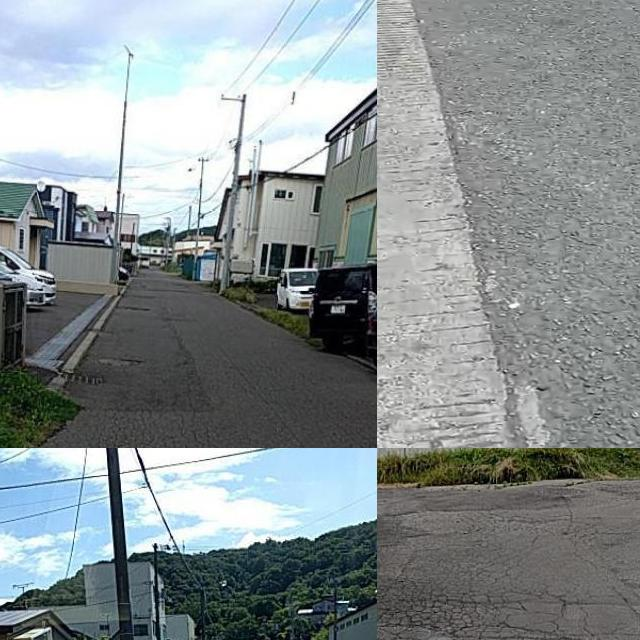Retak Buaya: (377, 532, 595, 640)
Sambungan: (377, 0, 531, 448)
